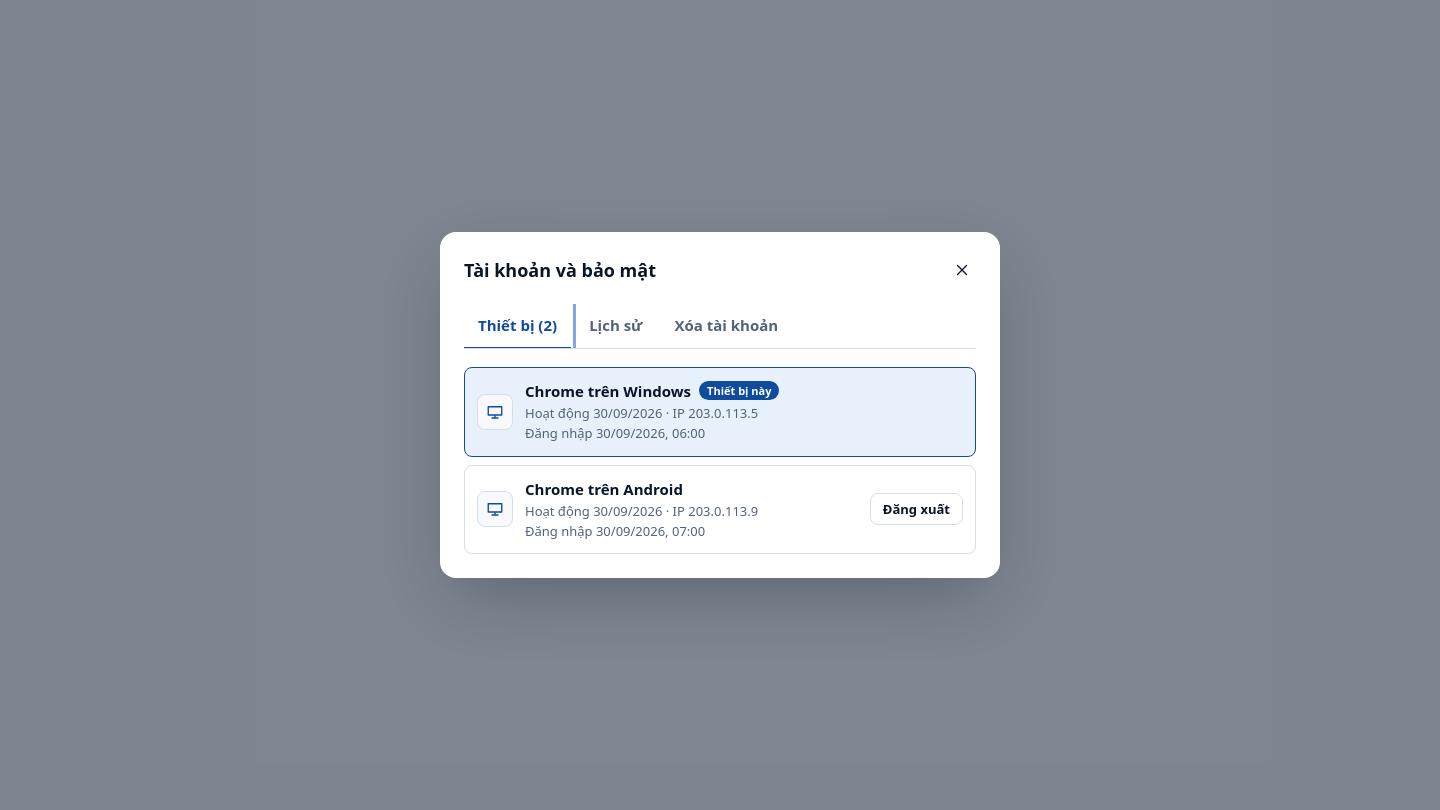
Scenario: SessionsDialog: thiết bị, lịch sử, xóa tài khoản › đúng mật khẩu: đóng hộp, báo thành công, tải lại danh sách
Click the button "Đăng xuất" at (916, 509), box [870,493,963,525]
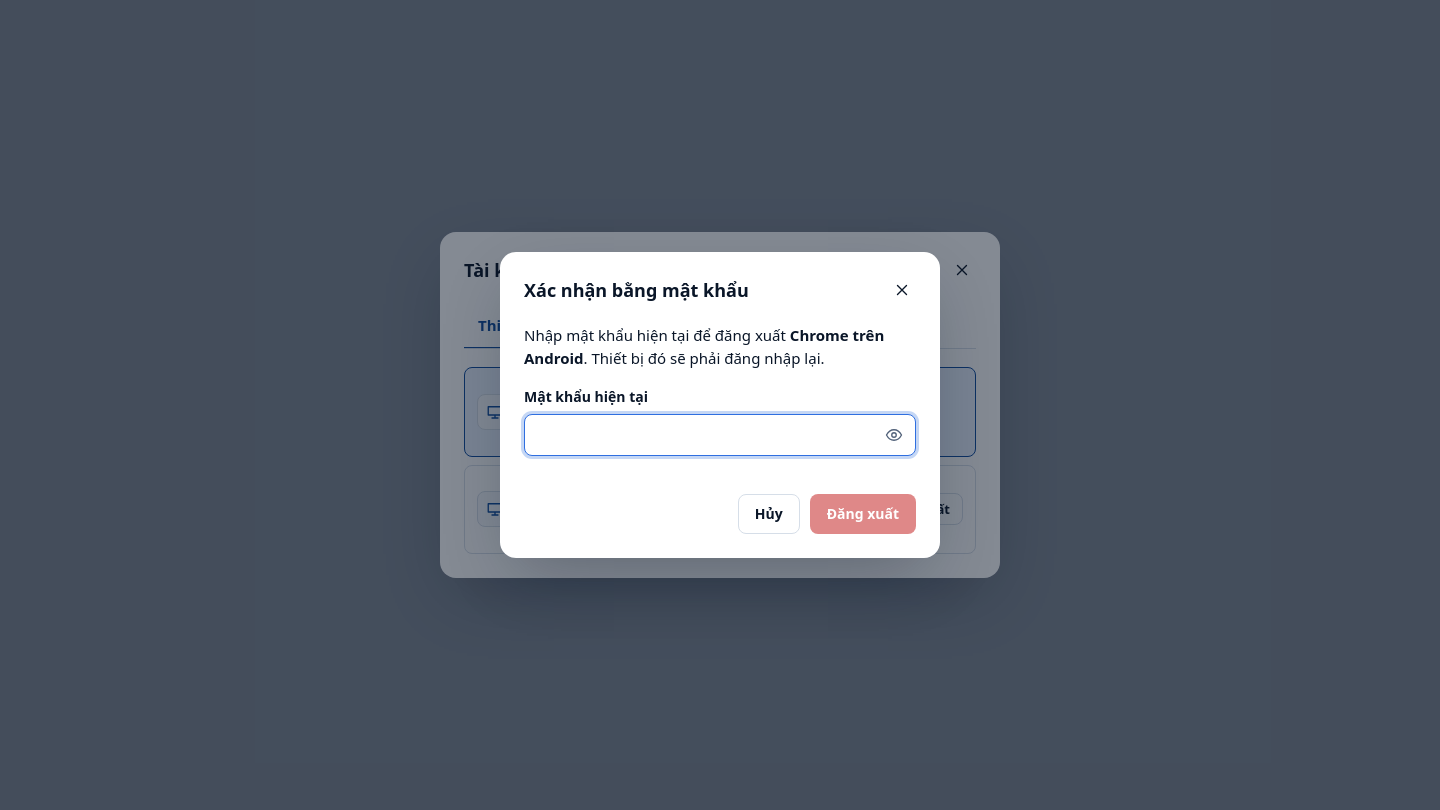
Type "mat-khau-dung" into the password field labelled "Mật khẩu hiện tại" at (720, 435), box [524,414,916,456]
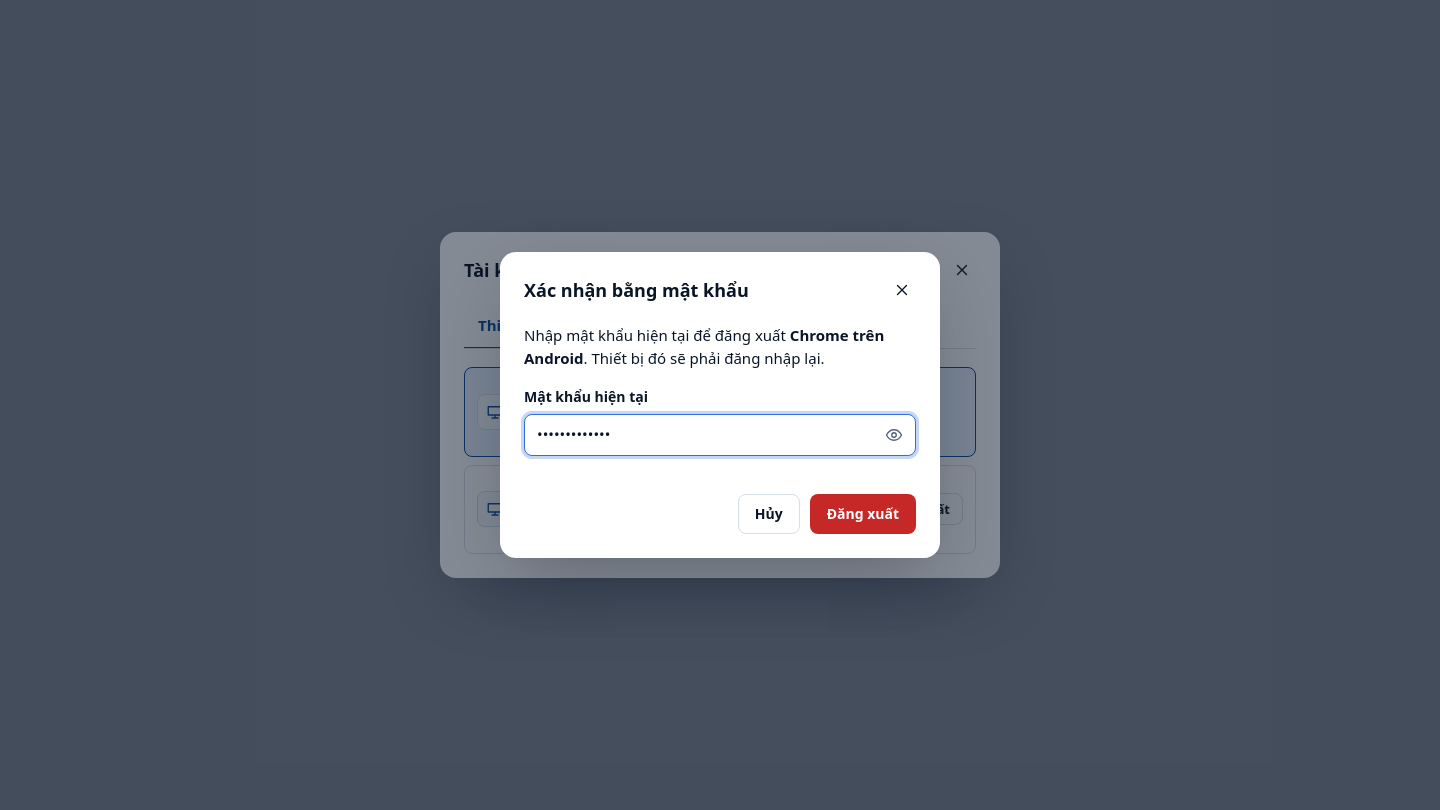
Click the button "Đăng xuất" at (863, 514), box [810,494,916,534]
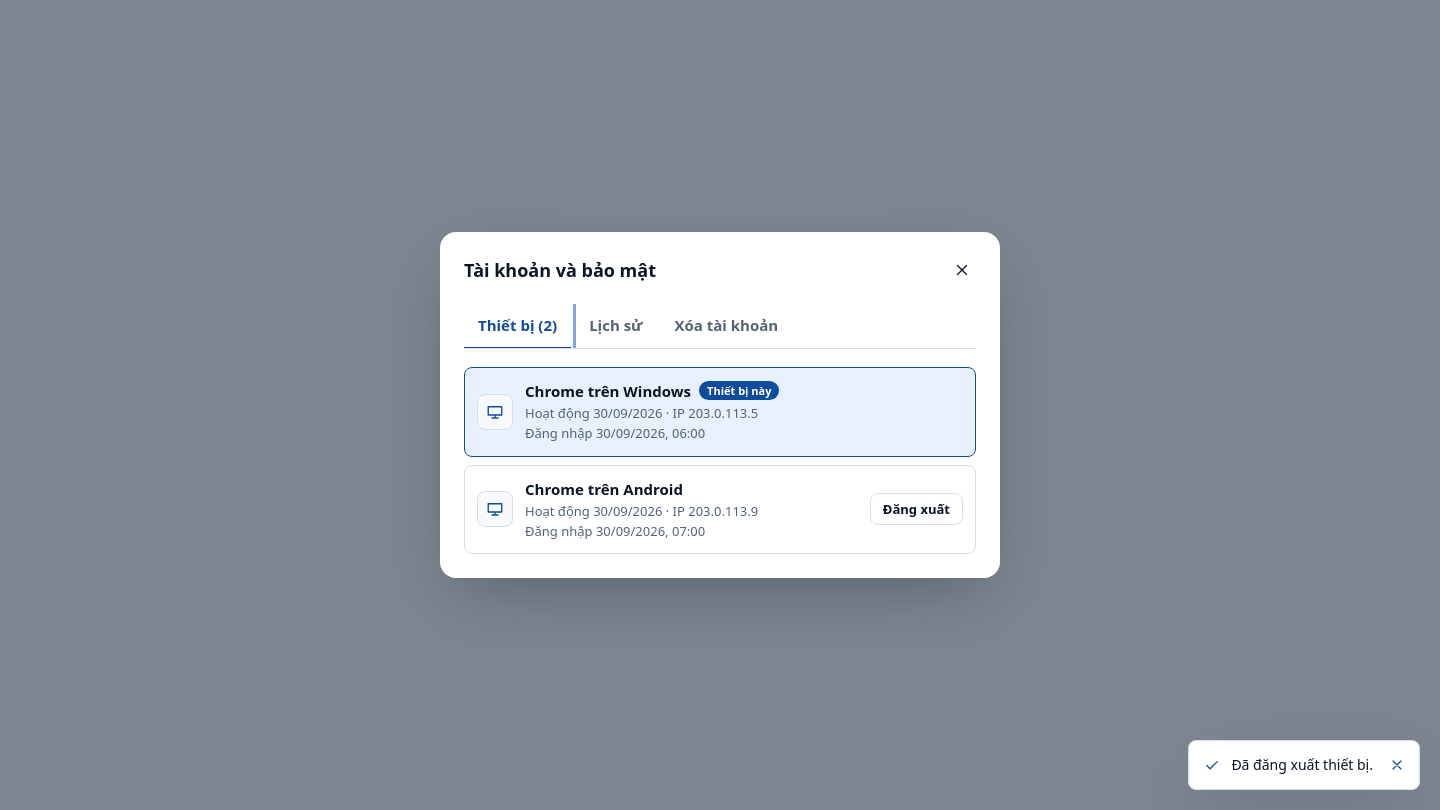
Expected: the text "Đã đăng xuất thiết bị." is shown, [1231,754,1373,776]
Expected: the heading "Xác nhận bằng mật khẩu" is gone
